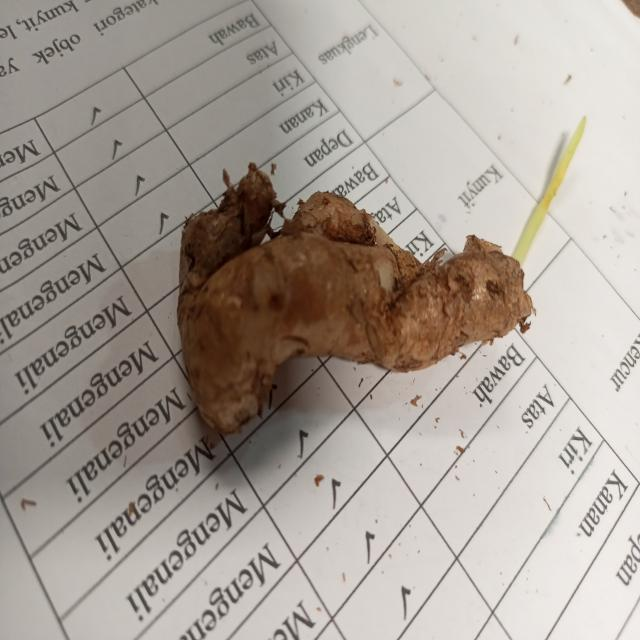ginger: (180, 166, 528, 431)
